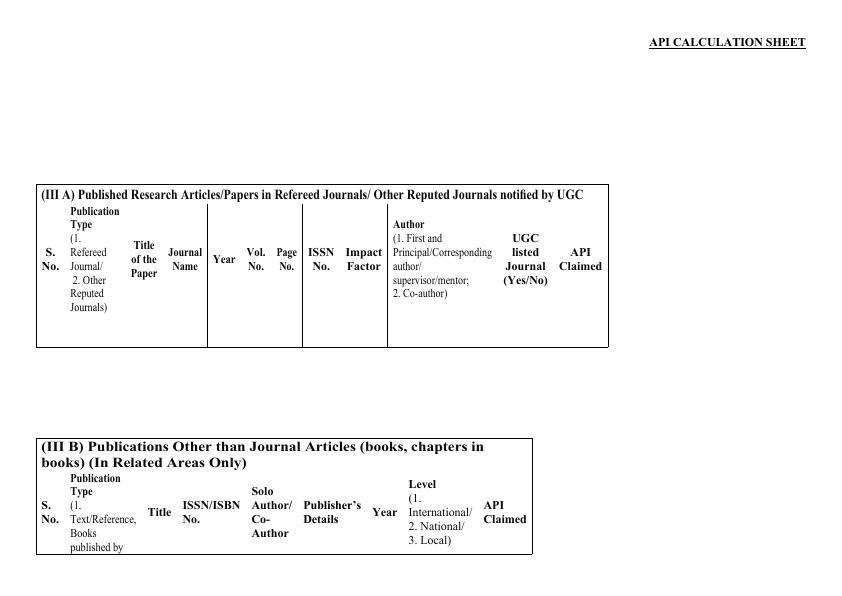table: (29, 177, 620, 358), (25, 431, 540, 563)
text: (648, 29, 817, 59)
